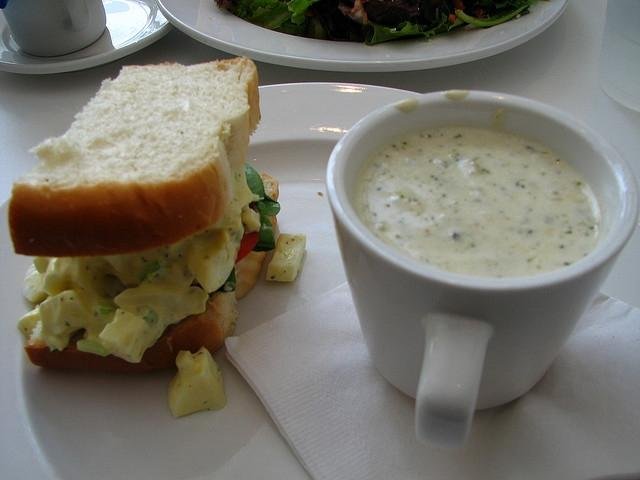potato: (114, 287, 208, 347), (166, 345, 227, 418), (187, 229, 236, 293), (100, 308, 155, 362), (38, 287, 93, 338), (104, 248, 166, 285), (68, 256, 116, 302), (265, 234, 306, 282), (84, 298, 120, 343), (43, 258, 75, 296), (22, 264, 49, 303), (18, 306, 42, 341)
